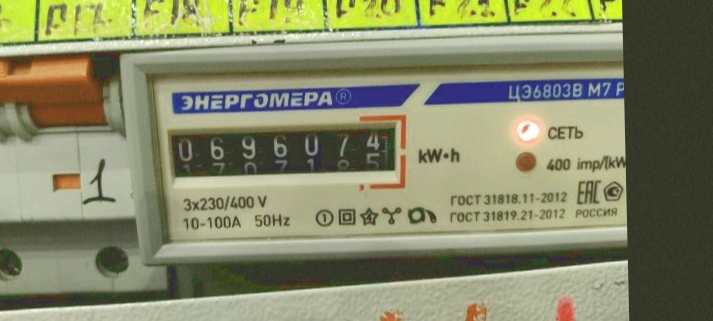0: (174, 136, 194, 162), (301, 131, 319, 157)
4: (363, 128, 380, 151)
5: (364, 151, 380, 172)
6: (269, 131, 288, 159), (206, 135, 225, 160)
7: (333, 131, 350, 157)
9: (238, 133, 255, 159)
screen: (156, 112, 410, 197)
